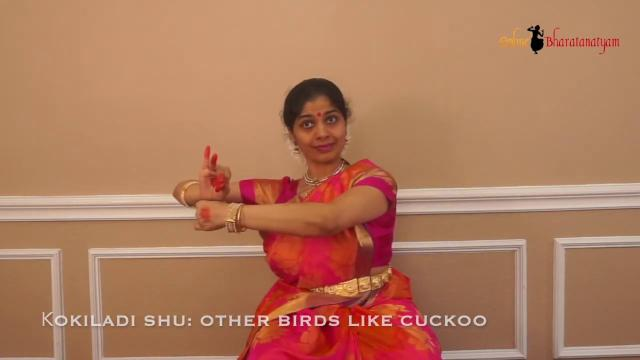bhramara: (188, 135, 246, 205)
